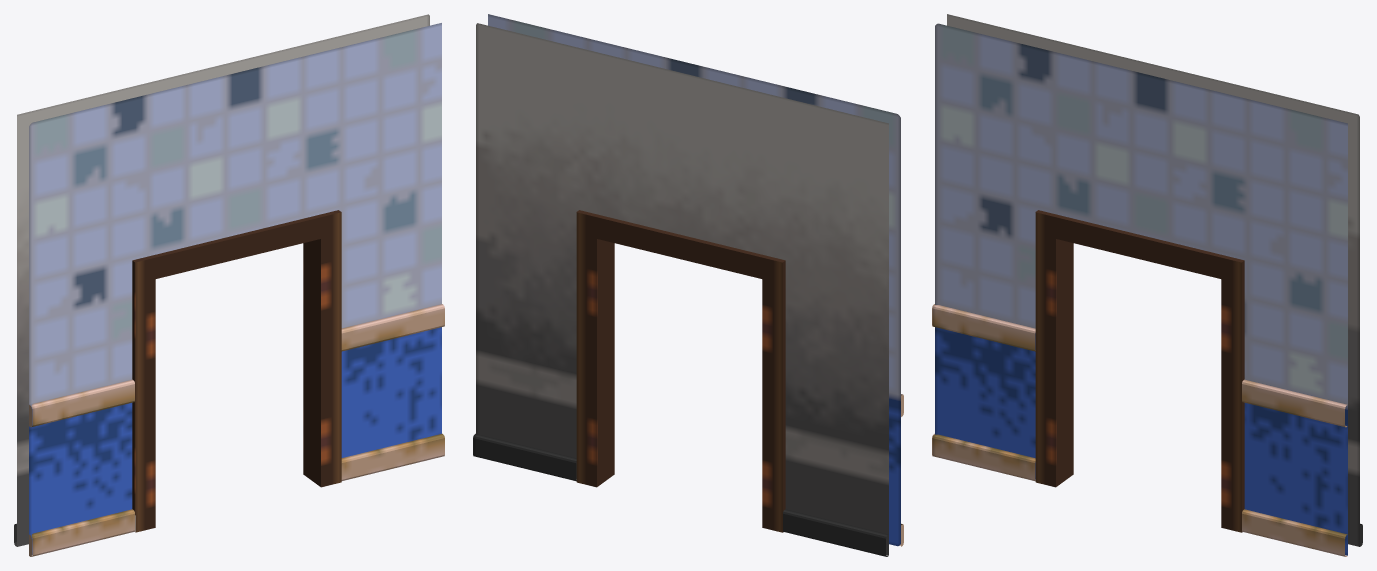
The model's file is Wall_Door_TipoD.fbx.
3 views of the same model, side by side, from view 1: azimuth 30°, elevation 25°; view 2: azimuth 150°, elevation 25°; view 3: azimuth 330°, elevation 25° (orthographic).
Visible parts, largest first — view 1: Cube.050, Cube.131, Cube.135, Cube.134; view 2: Cube.050, Cube.131, Cube.132; view 3: Cube.050, Cube.131, Cube.135, Cube.134.
Part boxes in pixels (<box>): Cube.050: <box>17,14,441,554</box>; Cube.131: <box>132,210,341,532</box>; Cube.135: <box>29,433,444,556</box>; Cube.134: <box>29,304,444,427</box>; Cube.050: <box>476,14,900,555</box>; Cube.131: <box>576,210,785,532</box>; Cube.132: <box>473,433,888,556</box>; Cube.050: <box>935,14,1359,555</box>; Cube.131: <box>1035,210,1244,532</box>; Cube.135: <box>932,433,1347,556</box>; Cube.134: <box>932,304,1347,427</box>.
Bounding box in the file's own units: 400 × 400 × 30.
